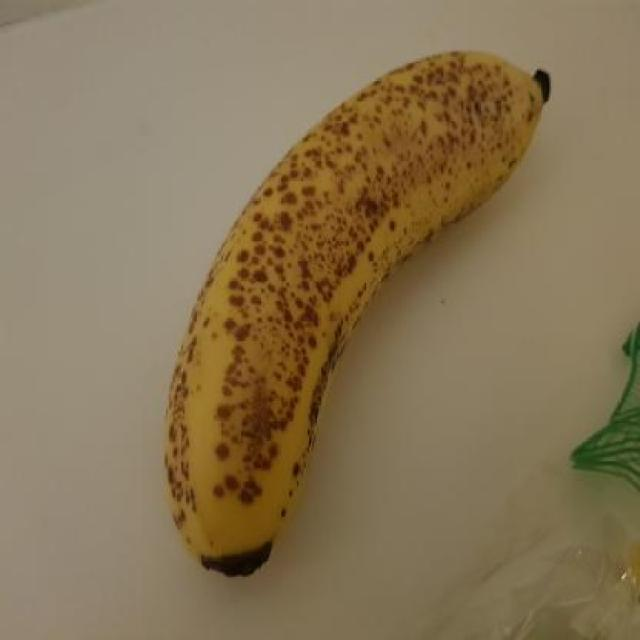Banana: (162, 36, 553, 582)
